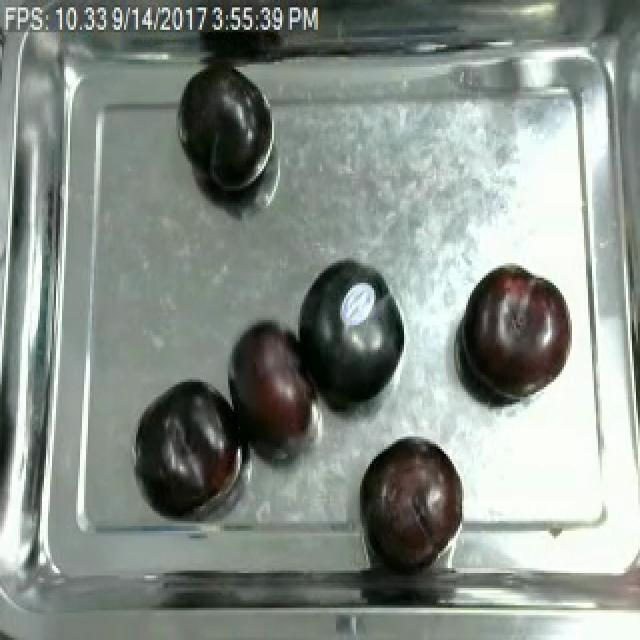Fruit: (290, 260, 410, 417), (456, 260, 574, 407), (132, 372, 248, 521), (170, 57, 278, 203), (356, 432, 466, 570), (224, 315, 326, 461)
